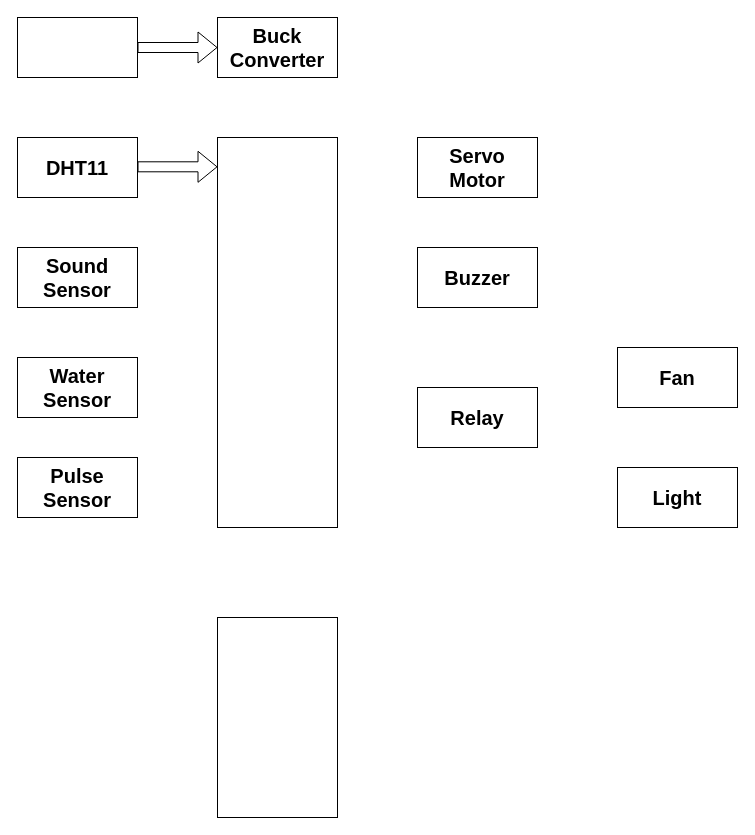
This 755x835 diagram has some shape labels left out. The shapes that lost their labels are listed below. From the top down, each one's box as (x1, y1, x2, y2) in pixels, then its label:
(16, 16, 138, 78): Power Source
(216, 136, 338, 528): Arduino UNO
(216, 616, 338, 818): ESP8266 Node MCU
